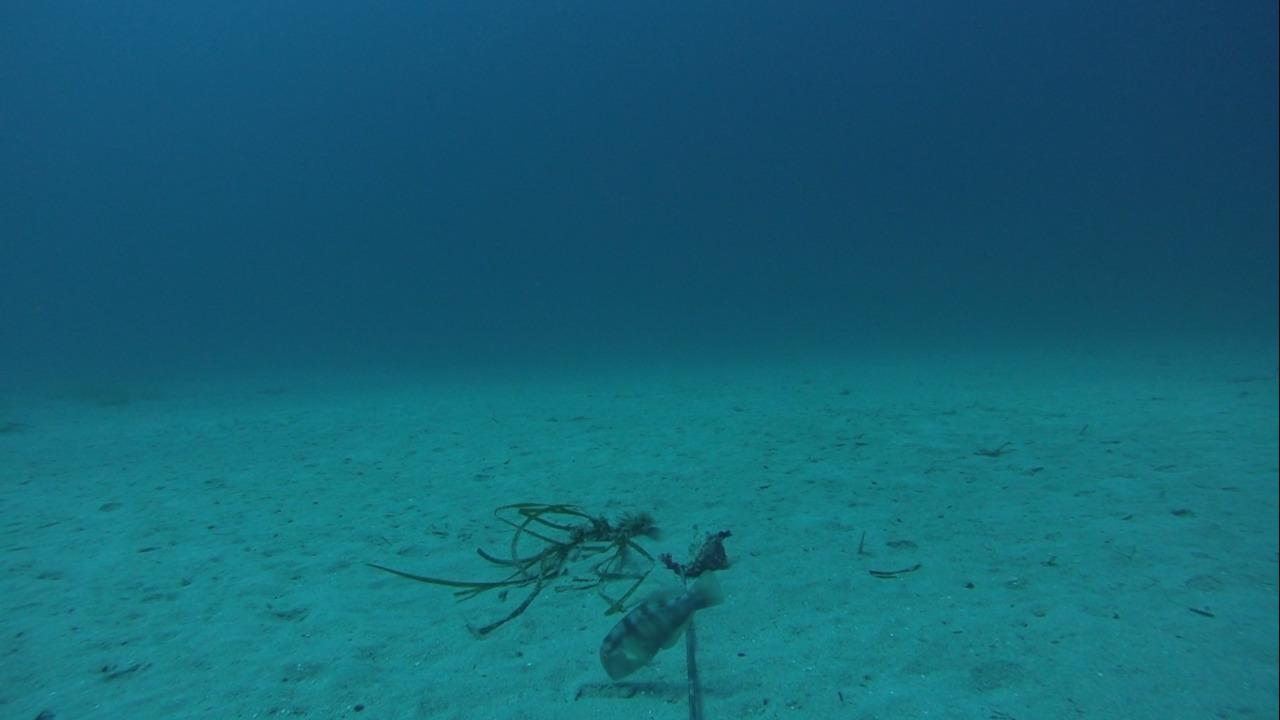raor: (598, 568, 721, 682)
